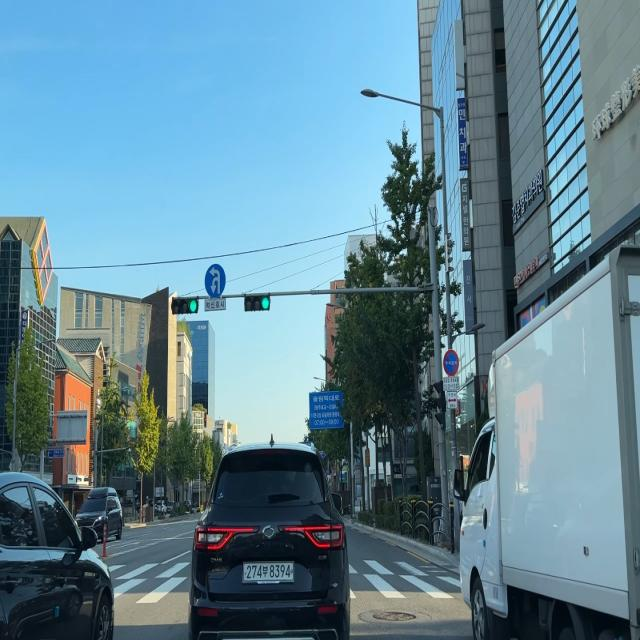Green Light: (188, 297, 198, 313), (261, 294, 270, 310)
